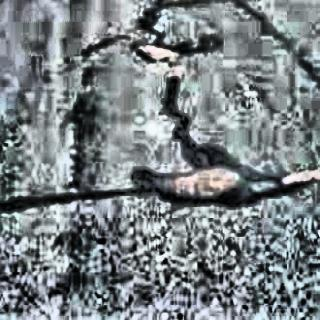crack: (156, 80, 208, 172), (76, 33, 146, 57)
